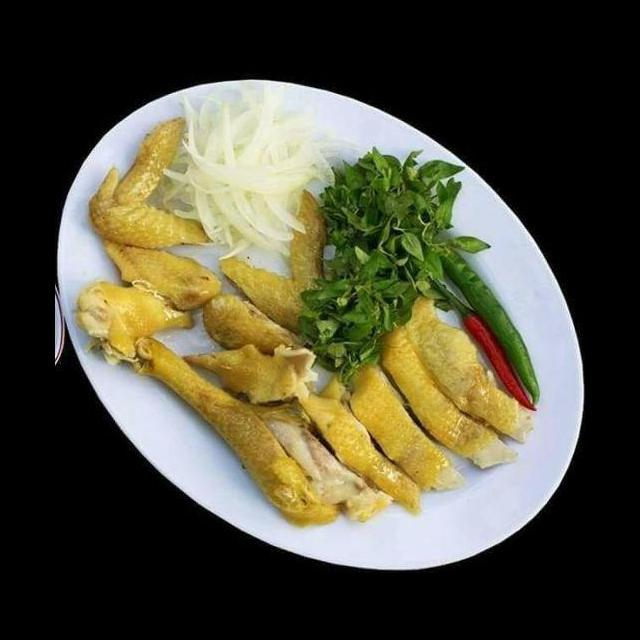rau ram: (293, 141, 495, 379)
thit ga: (125, 330, 397, 528), (373, 288, 537, 473), (291, 356, 471, 518), (198, 184, 339, 361), (68, 237, 226, 370), (83, 114, 218, 253)
